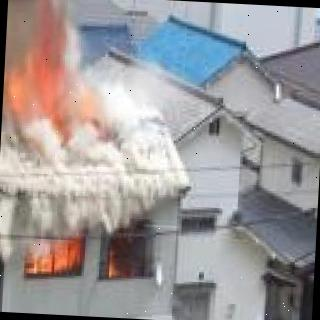fire: (3, 30, 122, 147), (28, 228, 147, 284), (0, 137, 22, 312)
